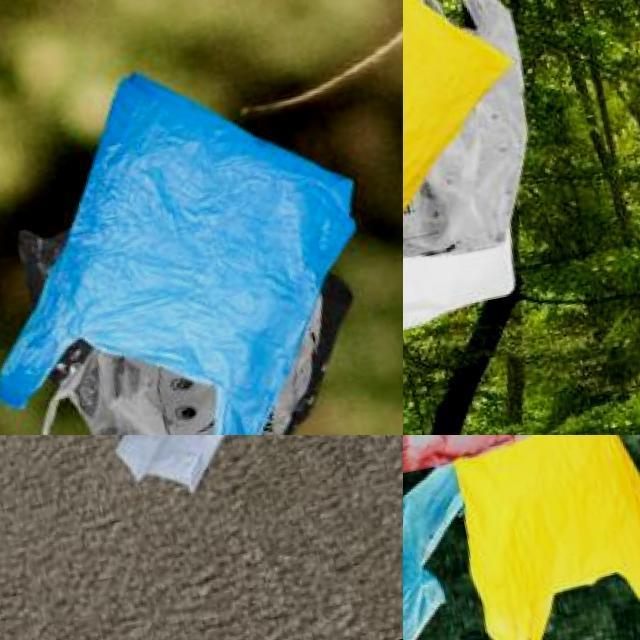waste: (0, 34, 403, 435), (403, 0, 560, 377), (19, 286, 350, 435), (434, 435, 640, 640), (104, 435, 301, 501)
